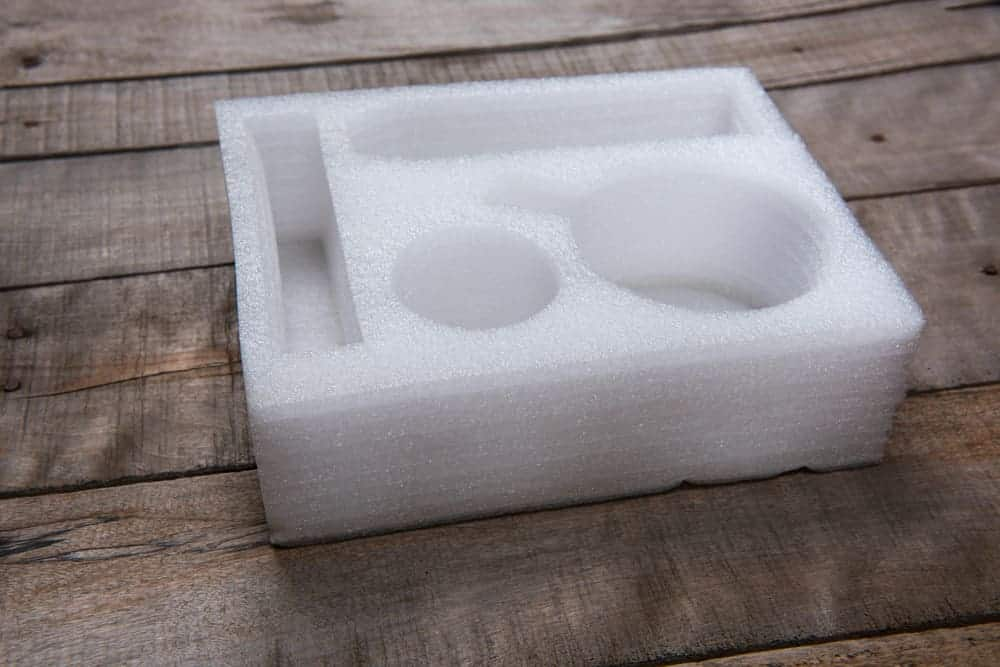泡沫箱: (219, 69, 922, 540)
